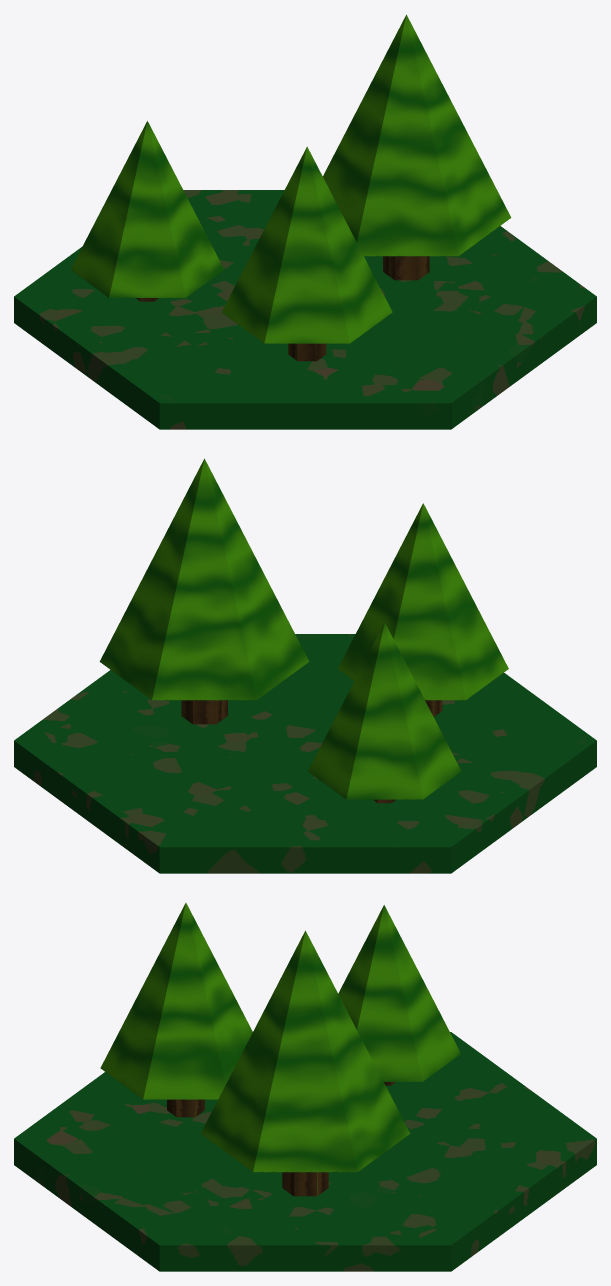
Rendered from Forest.gltf.
3 renders of one model, top to bottom at view 1: azimuth 30°, elevation 25°; view 2: azimuth 150°, elevation 25°; view 3: azimuth 270°, elevation 25°, orthographic.
Visible parts, largest first — view 1: 10 Forest; view 2: 10 Forest; view 3: 10 Forest.
Boxes of the visible parts, box(x1,y1,x2,y2) form: 10 Forest: box(14, 14, 596, 429); 10 Forest: box(14, 458, 596, 873); 10 Forest: box(14, 903, 596, 1271).
Bounding box in the file's own units: 1.73 × 1.07 × 2.
Materials: 2 (2 with a texture image).
